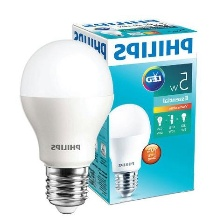carton: (68, 16, 202, 208)
light_bulb: (15, 31, 117, 218)
